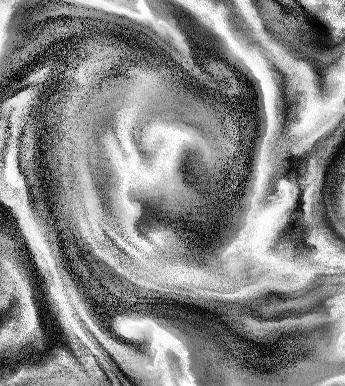AE: (24, 16, 276, 270)
